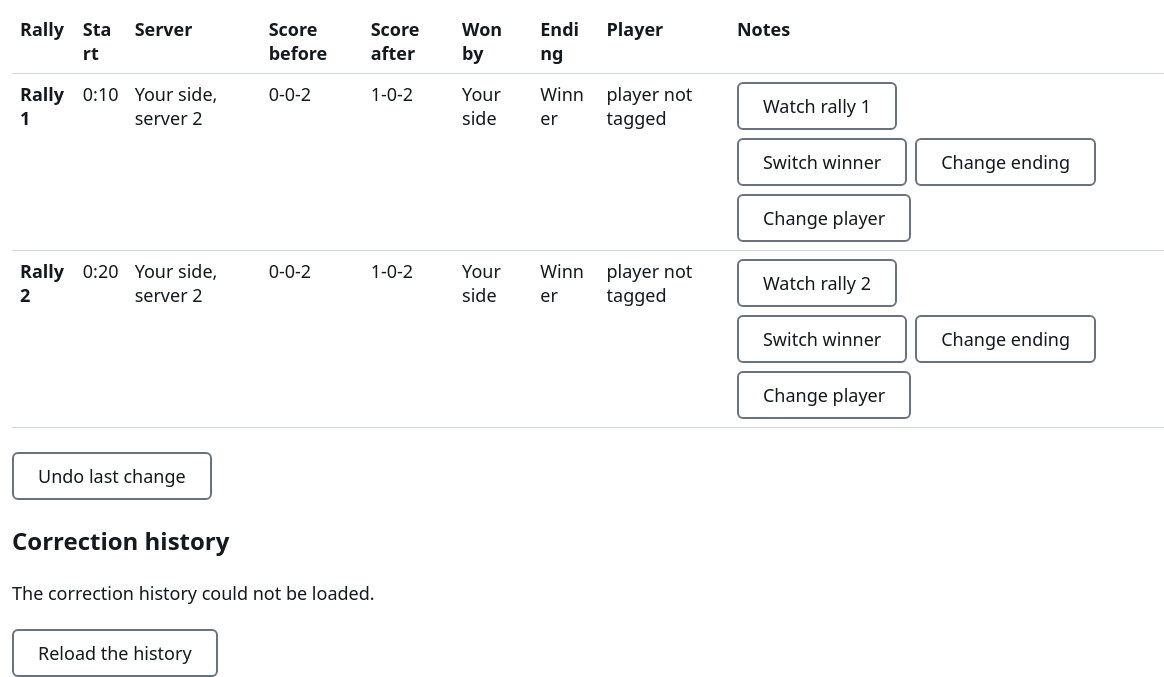
Test: ScoreSheetView undo (ST-031) › a history that cannot be loaded says so and can be reloaded; the sheet stays usable
(page scrolled)
Expected: the text "The correction history could not be loaded." is shown, [12,581,375,605]
Click the button "Reload the history" at (115, 653), box [12,629,218,676]
(page scrolled)
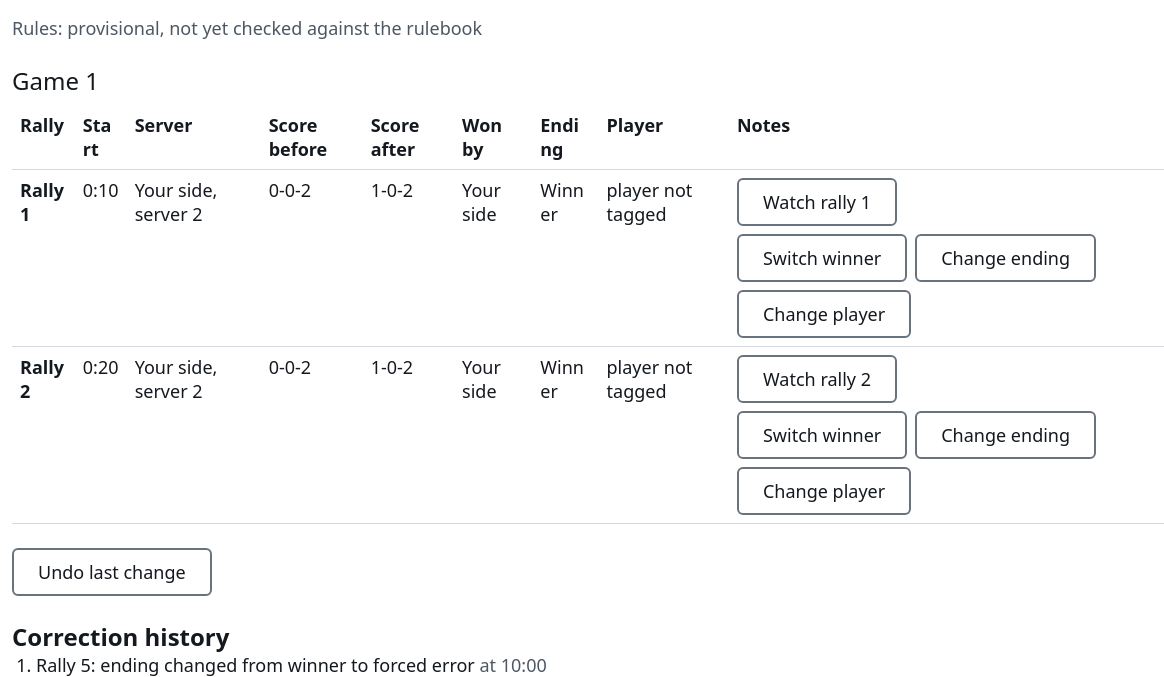
Now the list item "Rally 5: ending changed from winner to forced error at 10:00" is shown, box [36,653,547,676]
